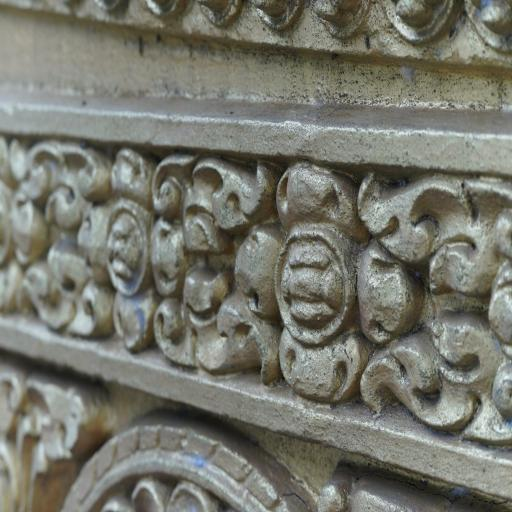hoa: (227, 142, 417, 417), (68, 148, 194, 361)
la: (361, 298, 512, 474), (341, 158, 512, 290), (154, 263, 281, 389), (140, 148, 274, 247), (11, 231, 122, 342), (6, 130, 112, 221)
